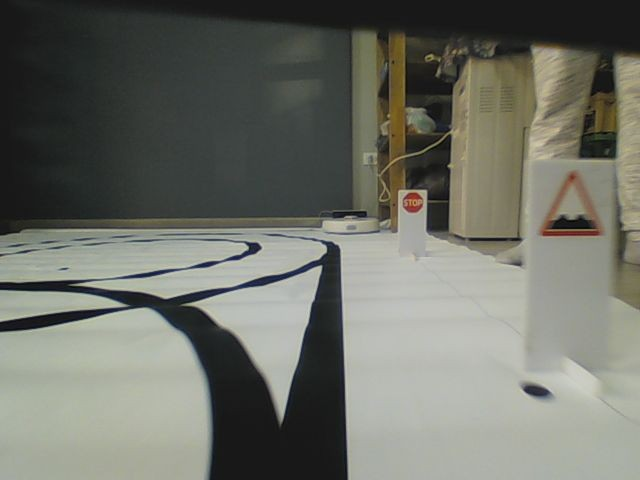Nerov: (537, 170, 604, 241)
Stop: (401, 192, 424, 213)
